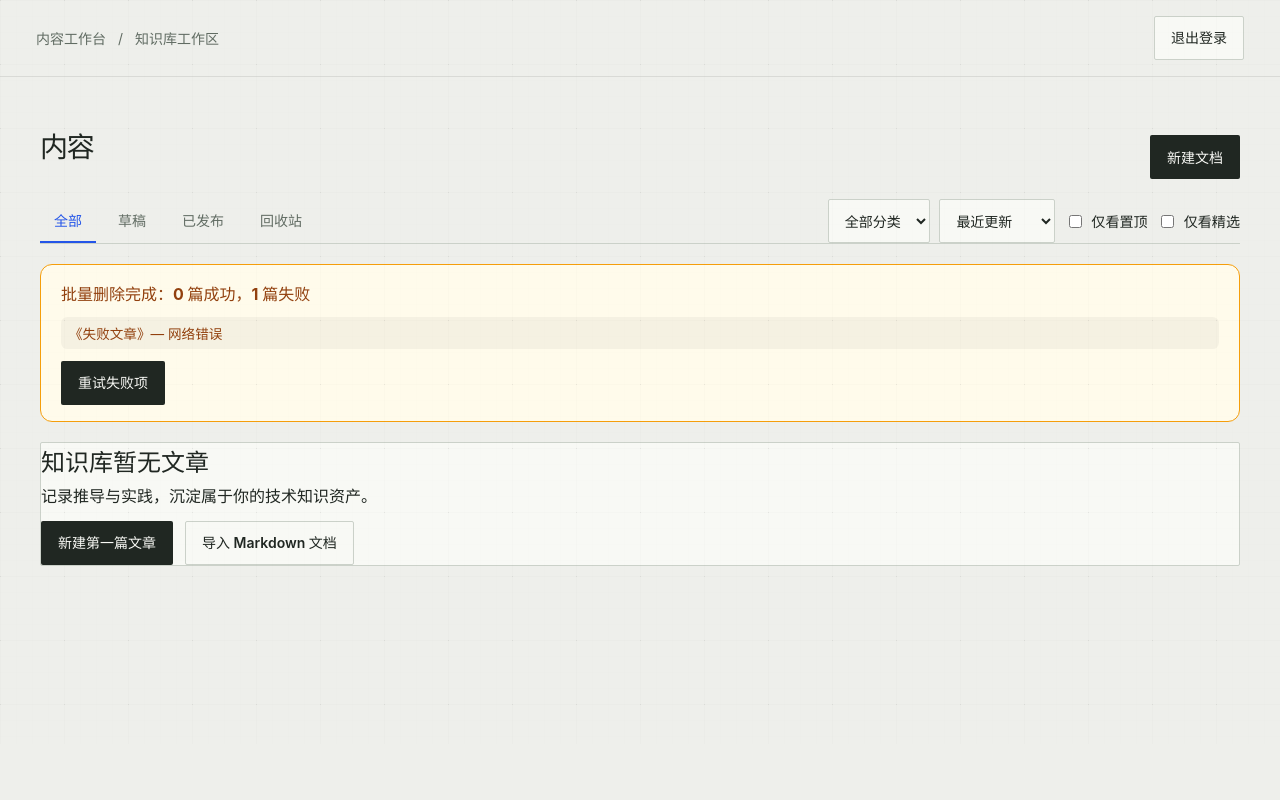
Test: opens exactly one deletion dialog when retrying from an empty list
Step 1. Click the button "重试失败项" → (113,383), box [61, 361, 165, 405]
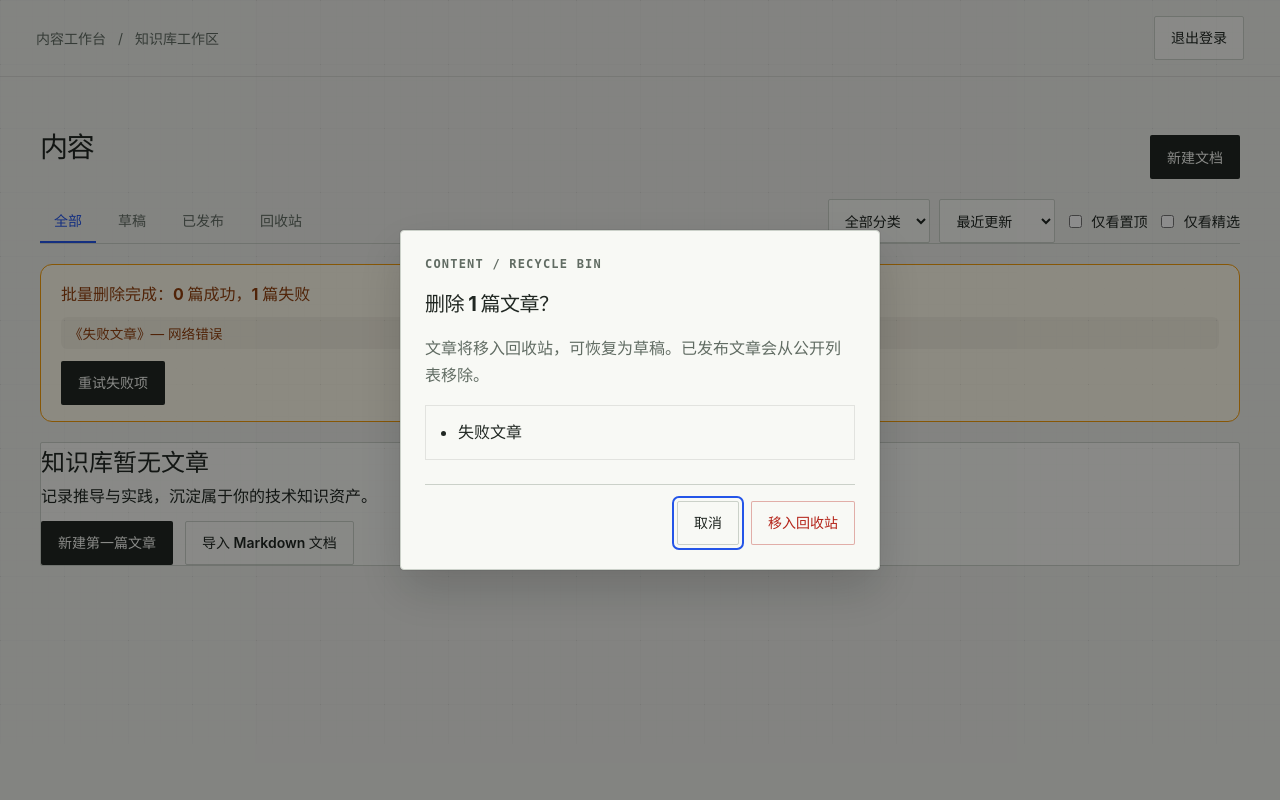
Now the number of dialogs is 1, box [400, 230, 880, 570]
Now the list item "失败文章" is shown, box [458, 422, 522, 442]
